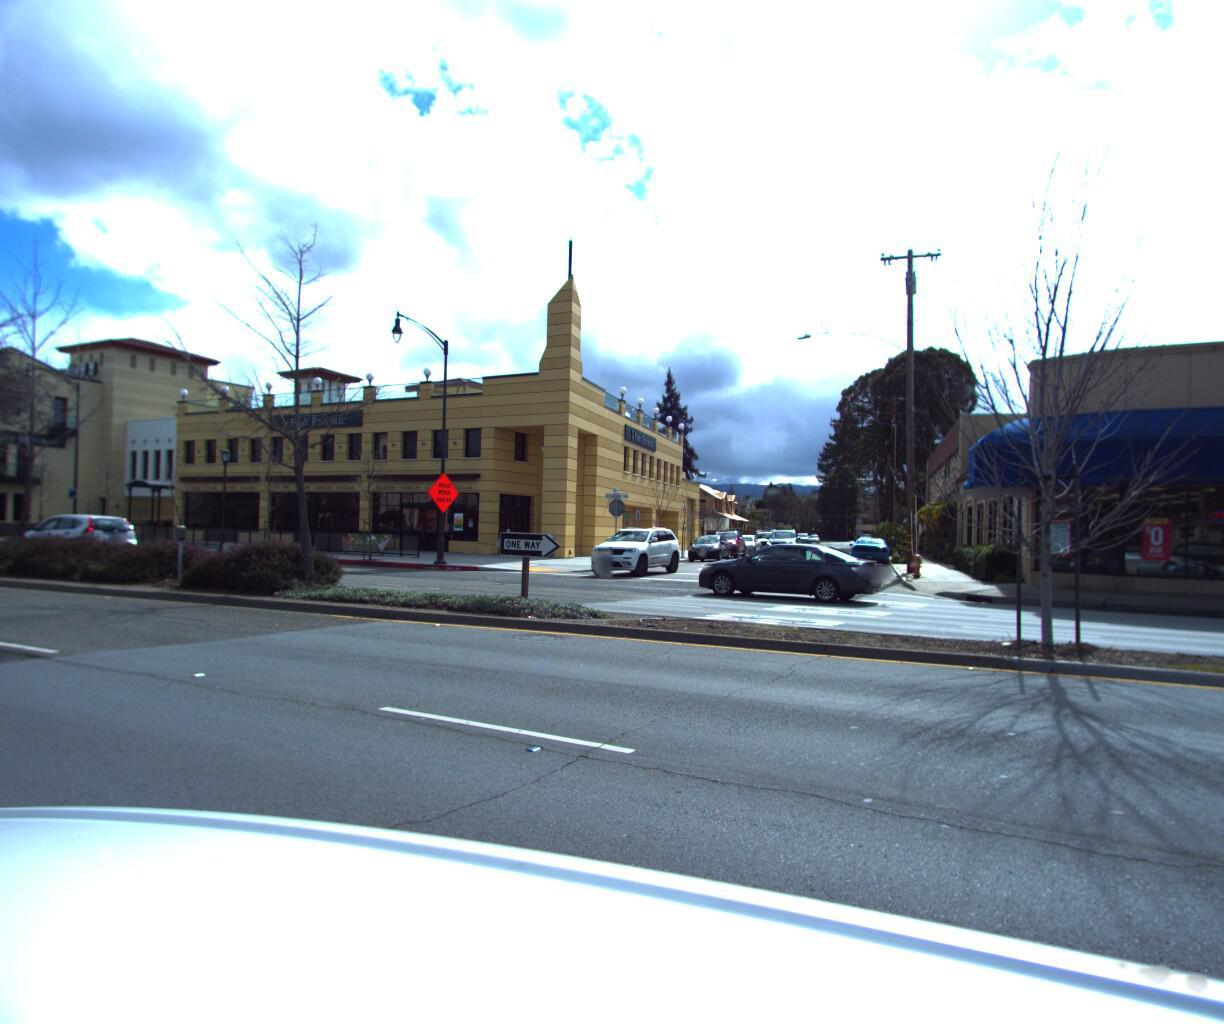car: (697, 544, 890, 613), (6, 513, 141, 570), (578, 528, 686, 585), (678, 542, 736, 570), (845, 542, 889, 576), (702, 542, 751, 567), (722, 541, 764, 564), (766, 543, 803, 569), (752, 535, 781, 557)
